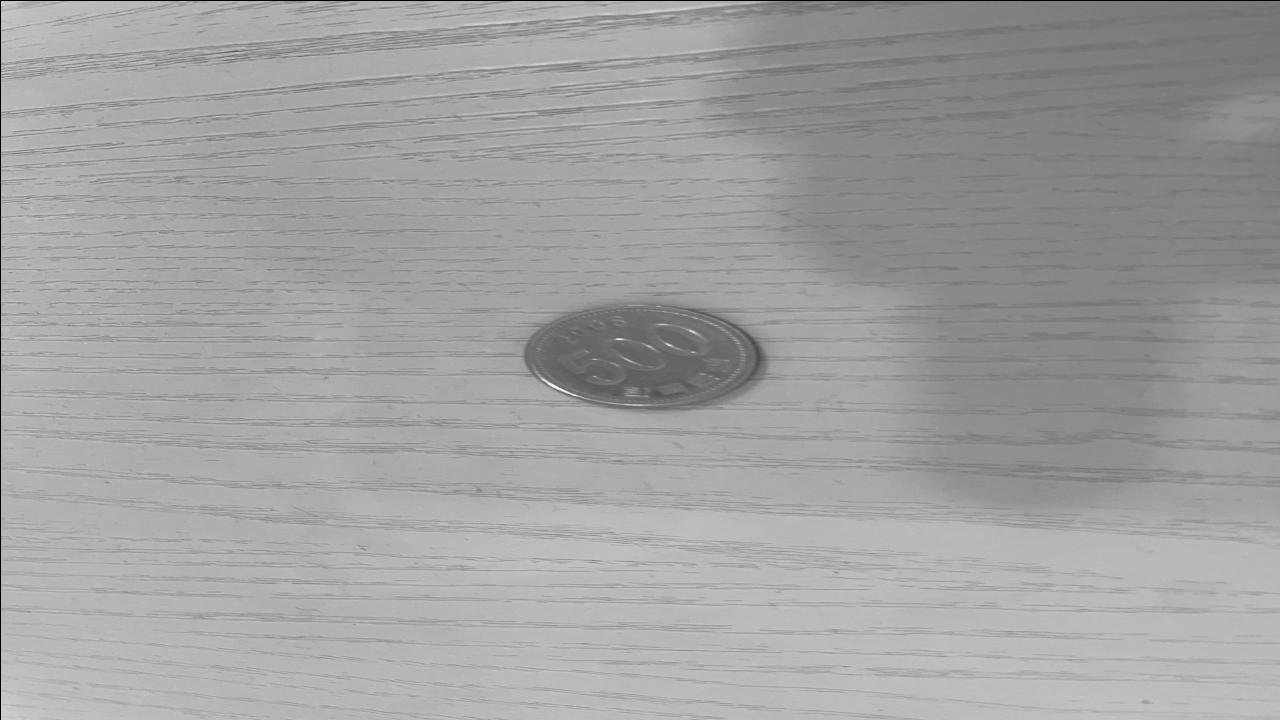coin: (512, 303, 766, 410)
